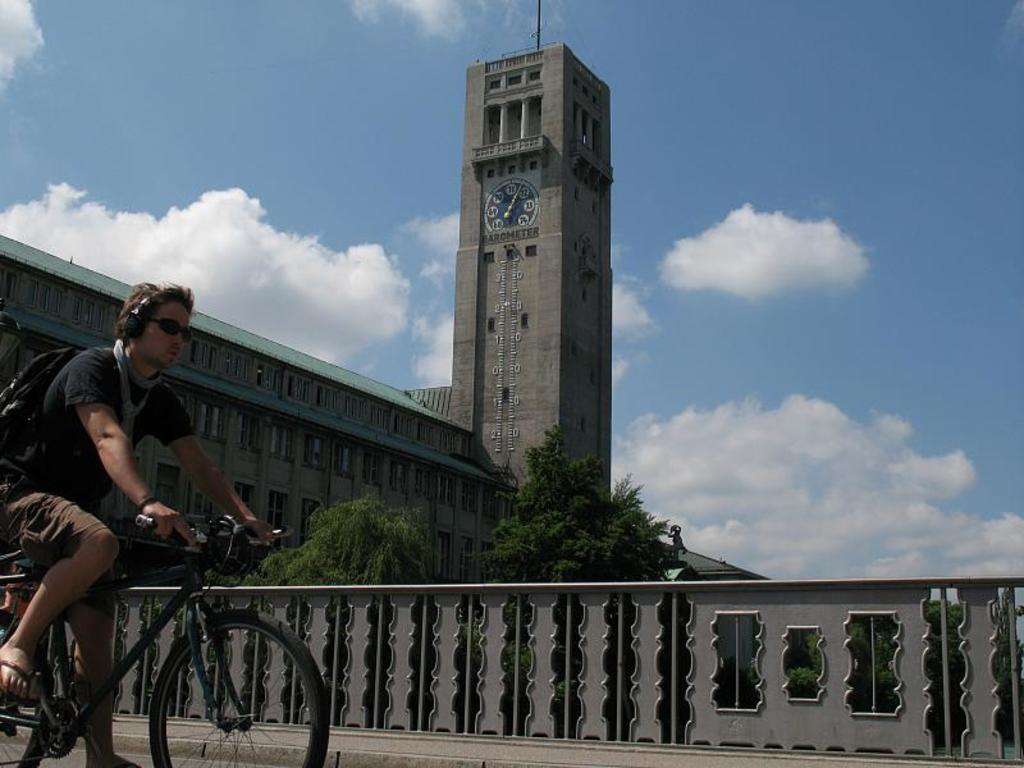Bike_toward: (7, 279, 330, 768)
